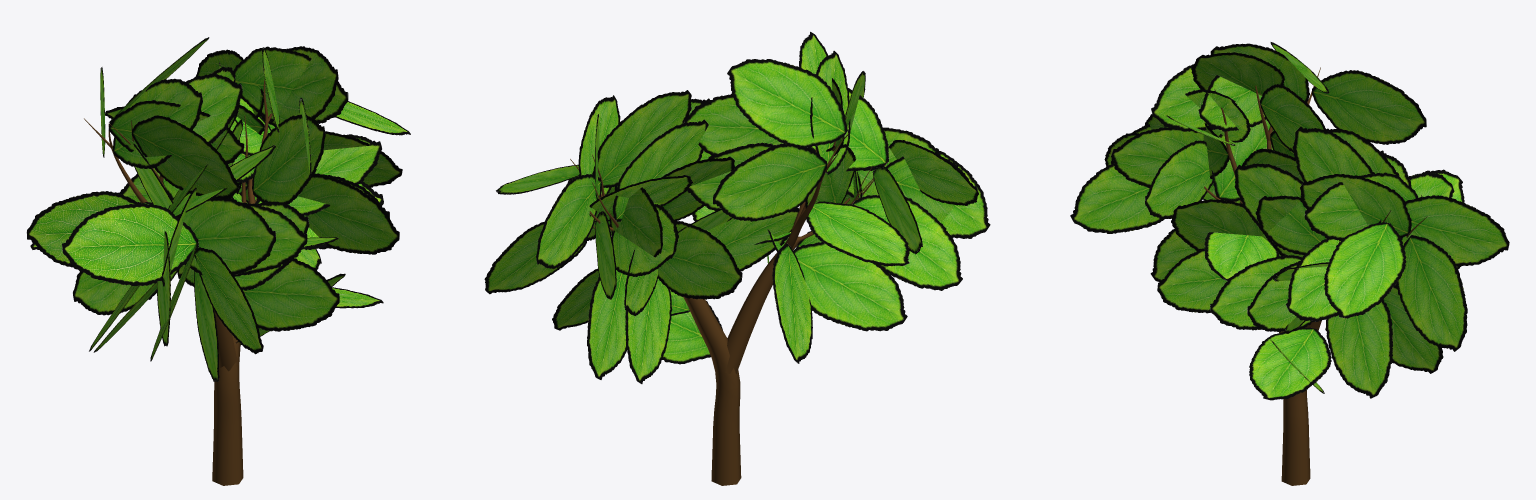
Rendered from Stage 2 Asset.fbx.
3 views of the same model, side by side, from view 1: azimuth 30°, elevation 25°; view 2: azimuth 150°, elevation 25°; view 3: azimuth 270°, elevation 25° (orthographic). The views are drawn at different scales.
Visible parts, largest first — view 1: Plane.172, tree.026; view 2: Plane.172, tree.026; view 3: Plane.172, tree.026.
Boxes of the visible parts, <box> form: Plane.172: <box>26,37,410,381</box>; tree.026: <box>84,80,272,485</box>; Plane.172: <box>484,31,990,384</box>; tree.026: <box>570,117,887,485</box>; Plane.172: <box>1070,42,1509,400</box>; tree.026: <box>1204,67,1427,485</box>.
Size of the model in its own units: 284 by 292 by 284.
